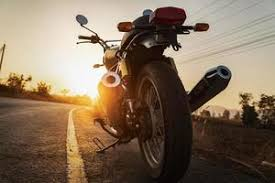motorcycle: (73, 5, 231, 182)
